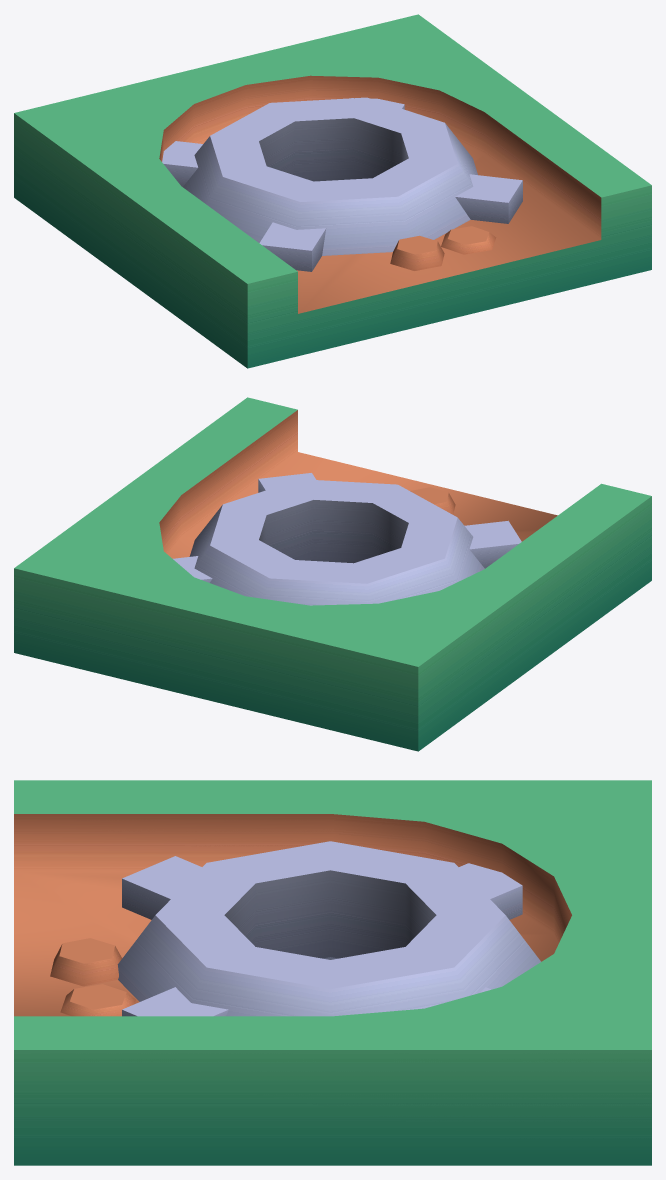
The model's file is tile-spawn-end-round.glb.
The picture shows the model from 3 angles, top to bottom: view 1: azimuth 30°, elevation 25°; view 2: azimuth 150°, elevation 25°; view 3: azimuth 270°, elevation 25°; orthographic projection. The views are drawn at different scales.
Visible parts, largest first — view 1: tile-spawn-end-round; view 2: tile-spawn-end-round; view 3: tile-spawn-end-round.
Boxes of the visible parts, x1,y1,x2,y2 form: tile-spawn-end-round: (14,14,651,368); tile-spawn-end-round: (14,397,651,751); tile-spawn-end-round: (14,780,651,1165).
Bounding box in the file's own units: 1 × 0.2 × 1.
1 material, 1 textured.
